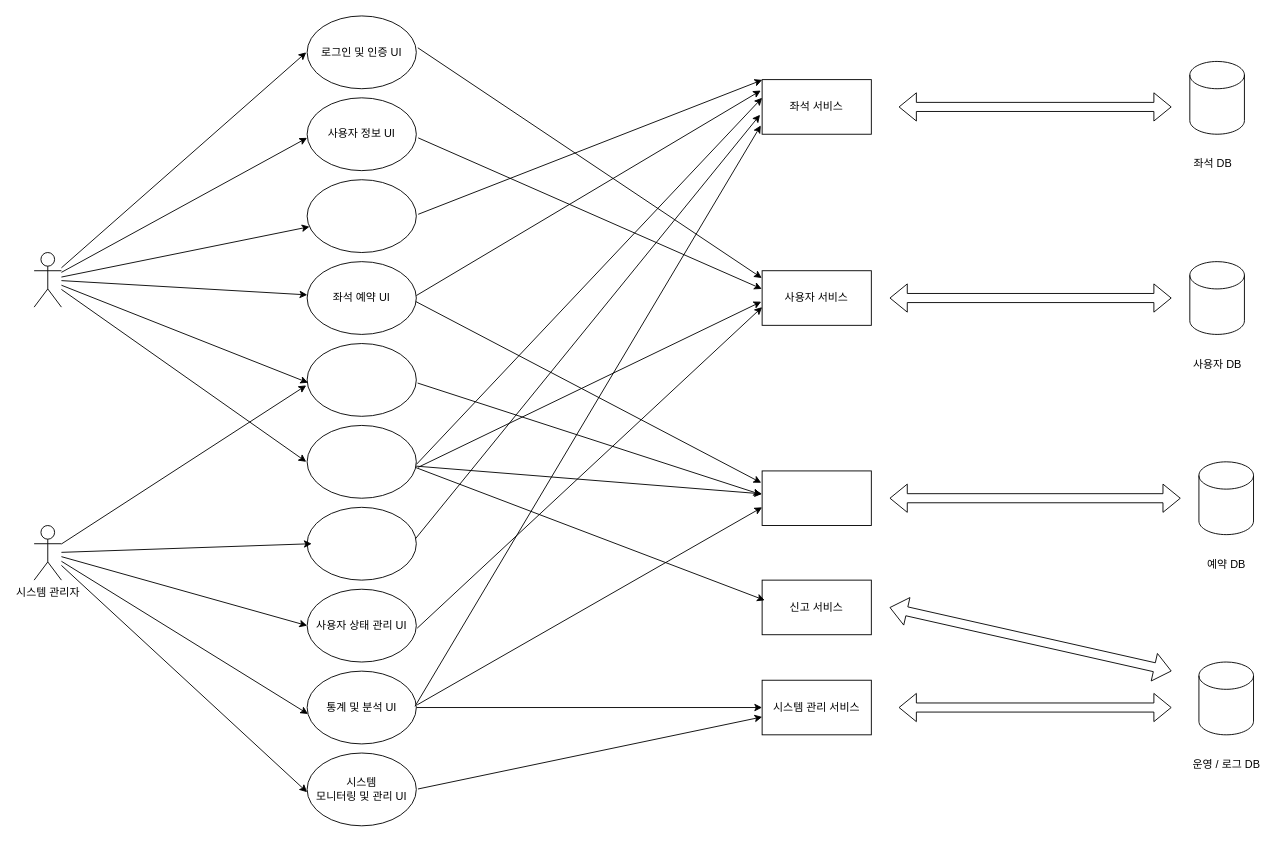
This 1287x842 diagram has some shape labels left out. The centre of each missing label's shape, as x and y in pixels:
사용자: [47,279]
예약 내역 조회 UI: [361,379]
예약 서비스: [816,498]
장애 신고 UI: [361,461]
좌석 관리 UI: [361,543]
좌석 조회 UI: [361,216]
